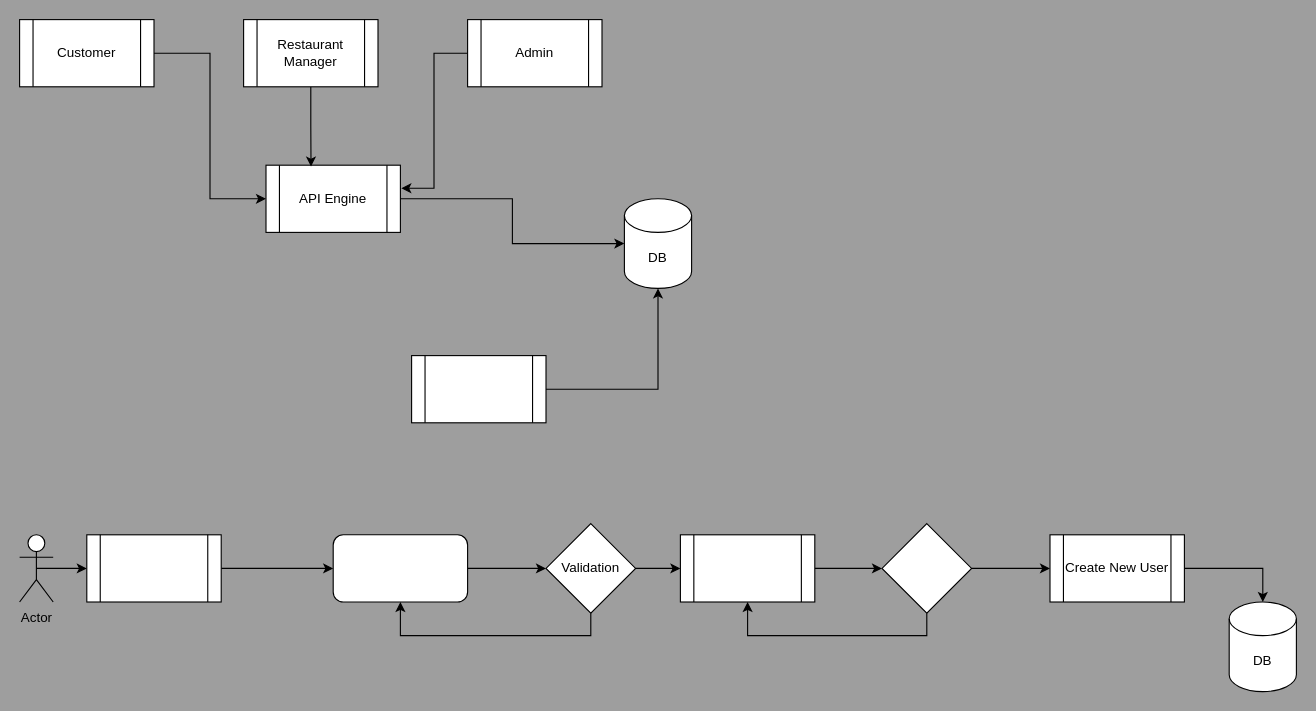
The diagram is 1316 pixels wide and 711 high, and some of its shapes have lost their labels. The shapes that lost their labels are listed below. From the top down, each one's box as (x1, y1, x2, y2) in pixels, then its label:
(410, 354, 546, 423): Analytics
(86, 534, 221, 602): Registration
(332, 534, 468, 602): Collect user info
(679, 534, 815, 602): Generate and Send OTP
(881, 522, 972, 613): Validate OTP
